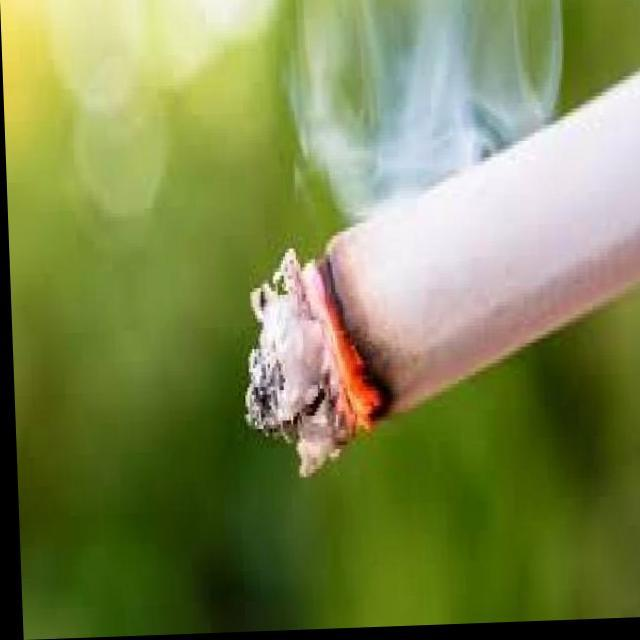Fire: (317, 274, 385, 443)
Smoke: (287, 0, 579, 292)
